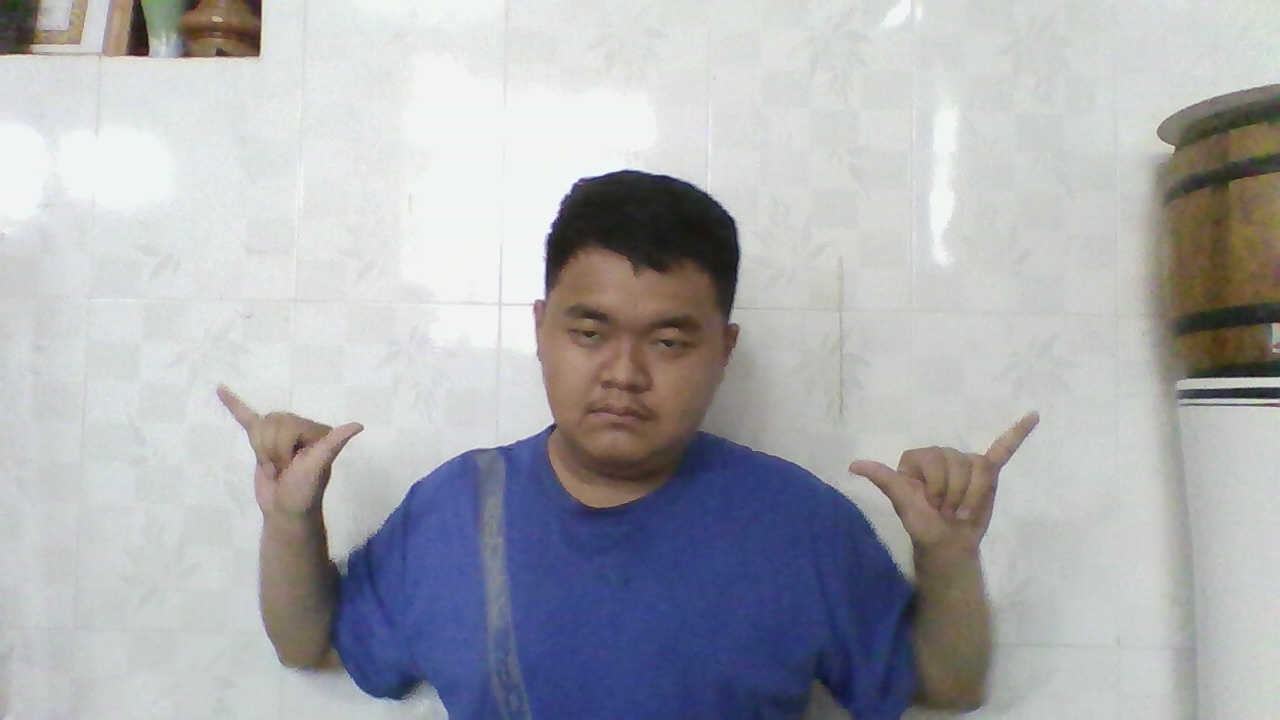Y: (840, 399, 1048, 564), (205, 375, 373, 527)
